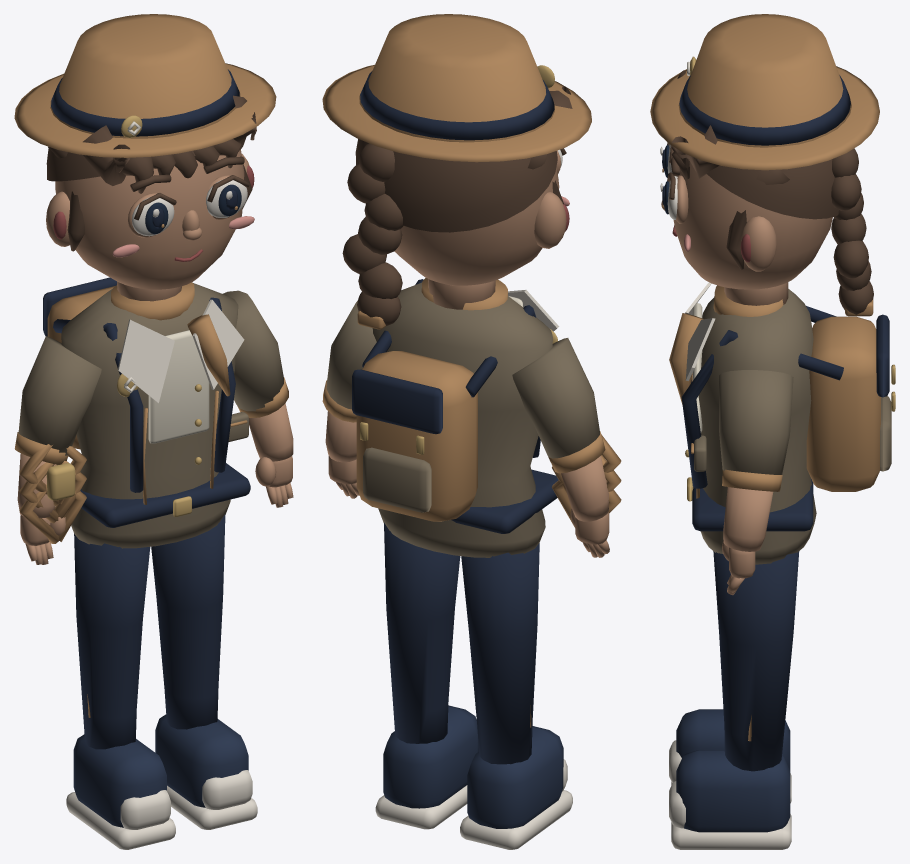
Rendered from npc_survivalridge_trainer_2.glb.
3 views of the same model, side by side, from view 1: azimuth 30°, elevation 25°; view 2: azimuth 150°, elevation 25°; view 3: azimuth 270°, elevation 25° (orthographic). The views are drawn at different scales.
Visible parts, largest first — view 1: figure.069; view 2: figure.069; view 3: figure.069.
Boxes of the visible parts, box(x1,y1,x2,y2) form: figure.069: box(14, 14, 293, 849); figure.069: box(322, 14, 621, 849); figure.069: box(650, 14, 895, 849).
Size of the model in its own units: 0.5962 by 1.58 by 0.4508.
